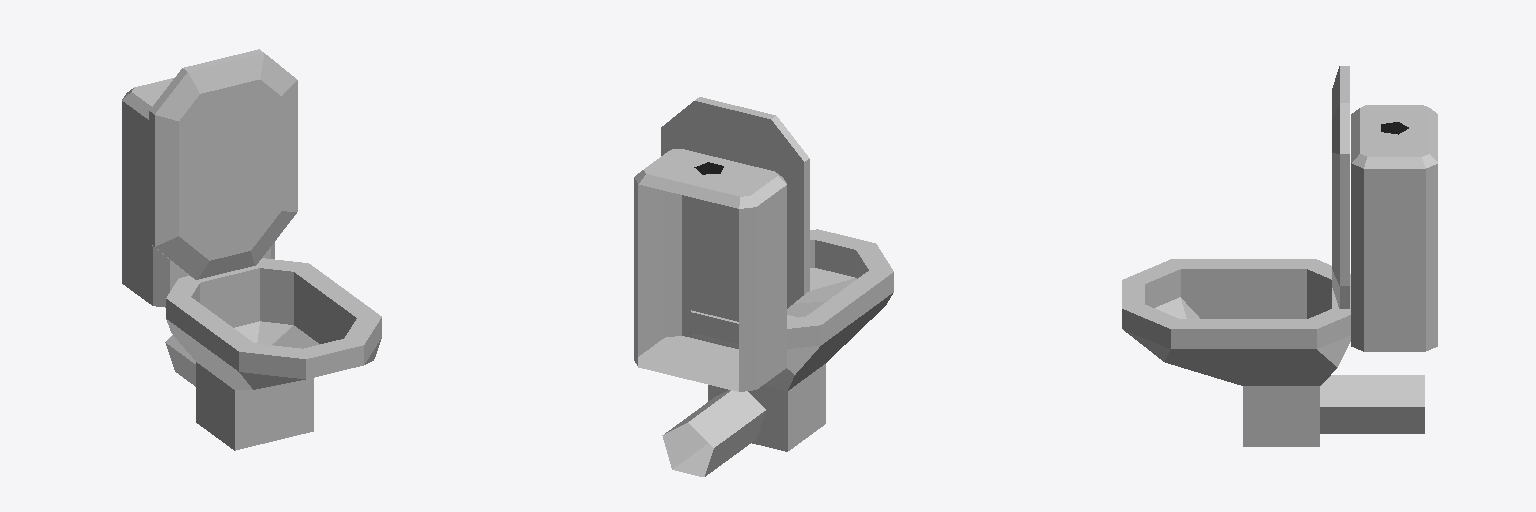
File: toilet_1.obj
3 views of the same model, side by side, from view 1: azimuth 30°, elevation 25°; view 2: azimuth 150°, elevation 25°; view 3: azimuth 270°, elevation 25° (orthographic).
Parts seen in each view (by area): view 1: toilet_1; view 2: toilet_1; view 3: toilet_1.
Boxes of the visible parts, x1=… form: toilet_1: x1=122, y1=49, x2=381, y2=450; toilet_1: x1=634, y1=97, x2=893, y2=476; toilet_1: x1=1122, y1=66, x2=1437, y2=446.
Size of the model in its own units: 1.51 by 3.47 by 2.9.